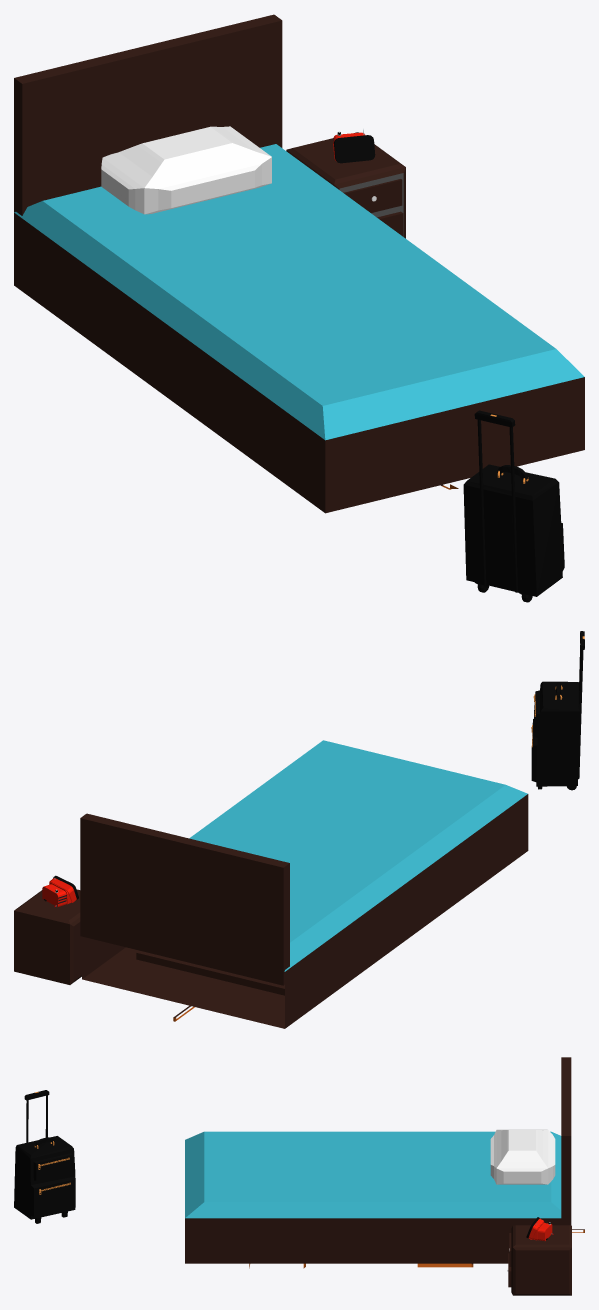
Rendered from Room.fbx.
3 renders of one model, top to bottom at view 1: azimuth 30°, elevation 25°; view 2: azimuth 150°, elevation 25°; view 3: azimuth 270°, elevation 25°, orthographic. The views are drawn at different scales.
Visible parts, largest first — view 1: default; view 2: default; view 3: default.
Part boxes in pixels (left/top/right/bottom): default: left=14, top=14, right=584, bottom=602; default: left=14, top=631, right=584, bottom=1028; default: left=14, top=1057, right=584, bottom=1295.
Size of the model in its own units: 1.47 by 0.89 by 3.38.
